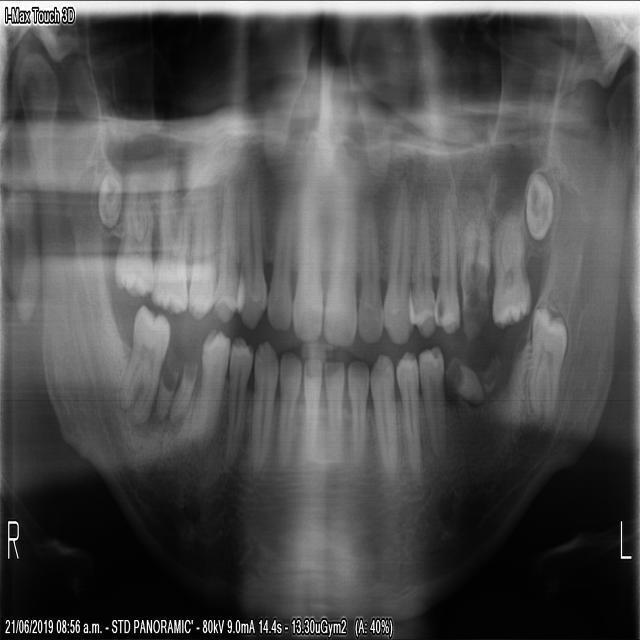LCD: (368, 352, 400, 483)
LCU: (382, 185, 413, 346)
LID: (324, 352, 345, 463), (348, 357, 367, 472)
LIU: (321, 140, 358, 351), (358, 160, 382, 344)
LMD: (527, 304, 570, 427)
LMU: (491, 179, 533, 327), (460, 177, 491, 344)
LPMD: (419, 347, 451, 465), (396, 354, 425, 476)
LPMU: (433, 197, 462, 335), (409, 196, 433, 343)
RCD: (246, 338, 278, 480)
RCU: (236, 157, 268, 330)
RID: (275, 351, 302, 472), (302, 358, 323, 452)
RIU: (292, 144, 323, 341), (266, 151, 295, 332)
RMD: (117, 305, 175, 437)
RMU: (151, 133, 189, 316), (112, 143, 155, 297), (188, 143, 216, 321), (215, 146, 237, 322)
RPMD: (184, 329, 230, 469), (222, 333, 253, 476)
